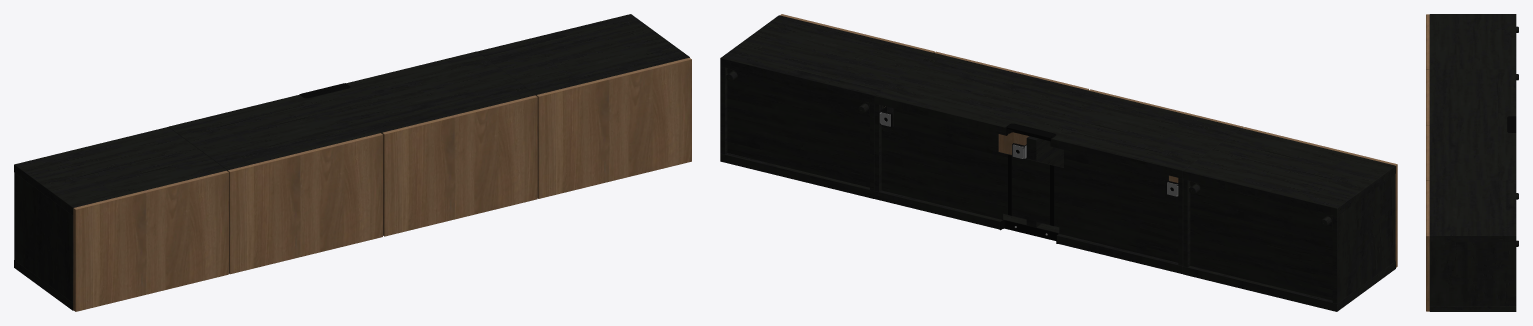
3 renders of one model, left to right at view 1: azimuth 30°, elevation 25°; view 2: azimuth 150°, elevation 25°; view 3: azimuth 270°, elevation 25°, orthographic. The views are drawn at different scales.
Visible parts, largest first — view 1: 39612155_TV_bench_with_doors.007, 39612155_TV_bench_with_doors.003; view 2: 39612155_TV_bench_with_doors.003, 39612155_TV_bench_with_doors.007, 39612155_TV_bench_with_doors.001, 39612155_TV_bench_with_doors.011, 39612155_TV_bench_with_doors.006; view 3: 39612155_TV_bench_with_doors.003, 39612155_TV_bench_with_doors.007, 39612155_TV_bench_with_doors.001, 39612155_TV_bench_with_doors.011.
Part boxes in pixels (x1,y1,x2,y2): 39612155_TV_bench_with_doors.007: (73,57,691,311); 39612155_TV_bench_with_doors.003: (14,14,689,310); 39612155_TV_bench_with_doors.003: (720,15,1395,311); 39612155_TV_bench_with_doors.007: (780,14,1397,267); 39612155_TV_bench_with_doors.001: (880,106,1178,243); 39612155_TV_bench_with_doors.011: (725,68,1332,228); 39612155_TV_bench_with_doors.006: (879,112,1178,235); 39612155_TV_bench_with_doors.003: (1429,14,1516,311); 39612155_TV_bench_with_doors.007: (1426,14,1429,311); 39612155_TV_bench_with_doors.001: (1507,116,1516,132); 39612155_TV_bench_with_doors.011: (1516,26,1518,246).
Size of the model in its own units: 2.4 by 0.3875 by 0.4232.
Materials: 6 (4 with a texture image).
